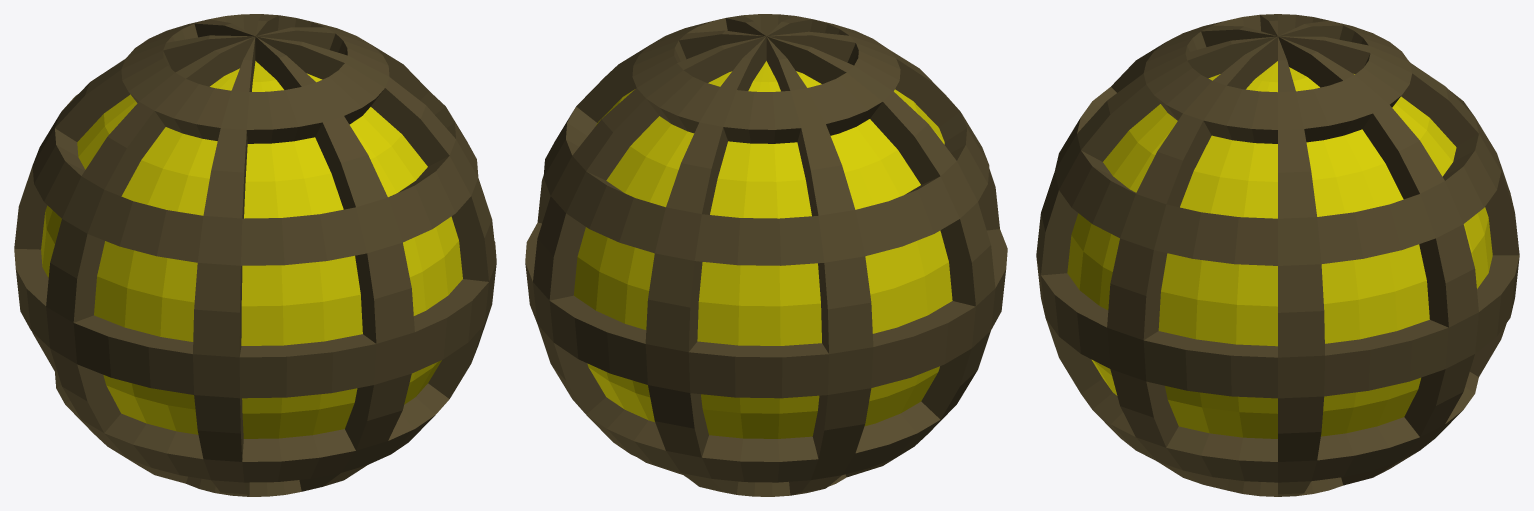
Rendered from BalonDeJuego3.fbx.
3 renders of one model, left to right at view 1: azimuth 30°, elevation 25°; view 2: azimuth 150°, elevation 25°; view 3: azimuth 270°, elevation 25°, orthographic.
Visible parts, largest first — view 1: Sphere.001; view 2: Sphere.001; view 3: Sphere.001.
Boxes of the visible parts, <box> form: Sphere.001: <box>14,14,496,496</box>; Sphere.001: <box>525,14,1007,496</box>; Sphere.001: <box>1036,14,1519,496</box>.
Size of the model in its own units: 200 by 198 by 200.
